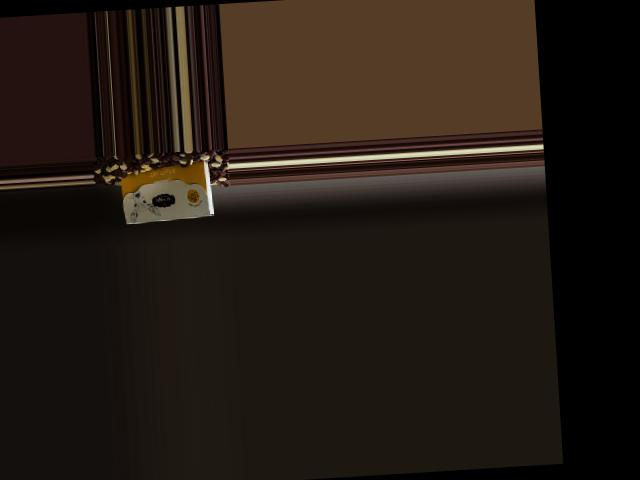chocolate: (114, 157, 218, 227)
